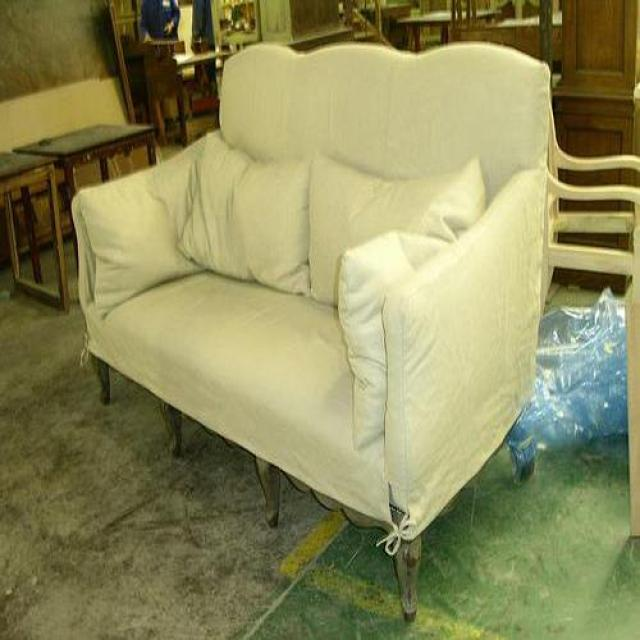sofa: (68, 44, 554, 627)
